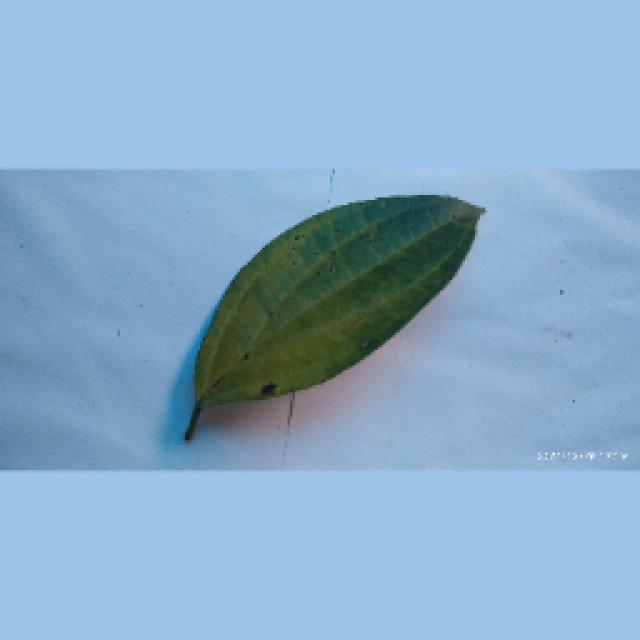slow-decline: (170, 188, 485, 442)
